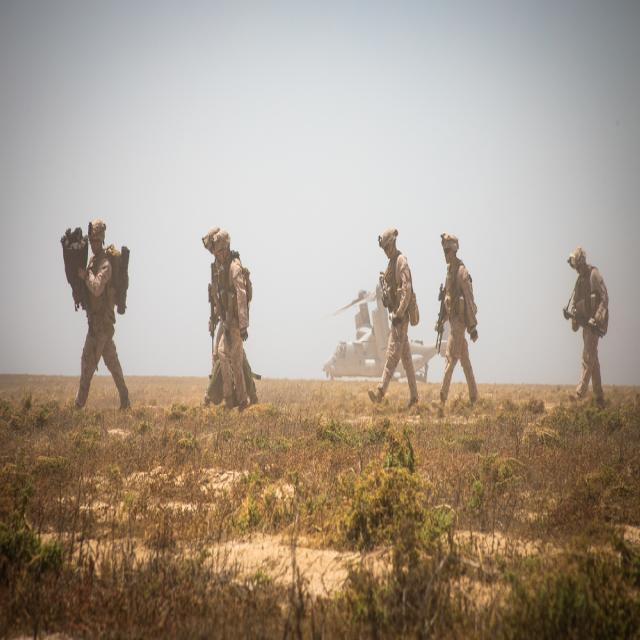MIL_Plane: (321, 282, 451, 383)
